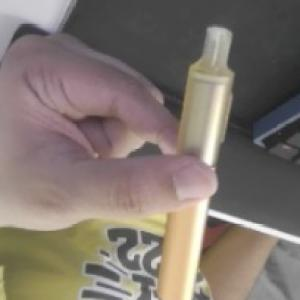Golden-E-Ciggirate: (156, 24, 234, 300)
